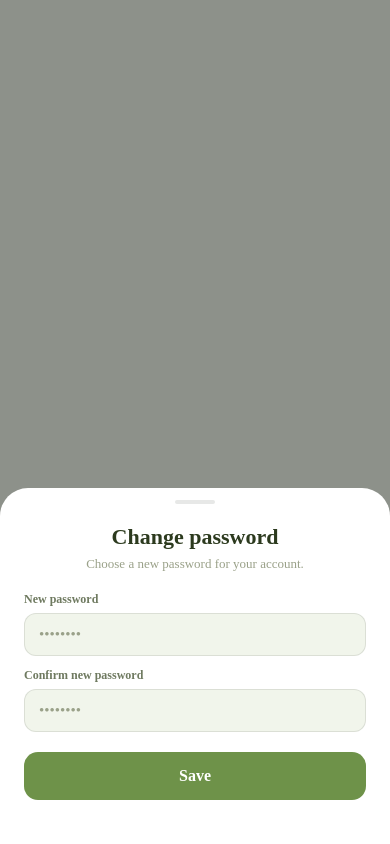
Test: ChangePasswordSheet › surfaces a service error
Type "abcdef" into the password field with test id "new-password-input" at {"x": 195, "y": 634}, box [24,613,366,656]
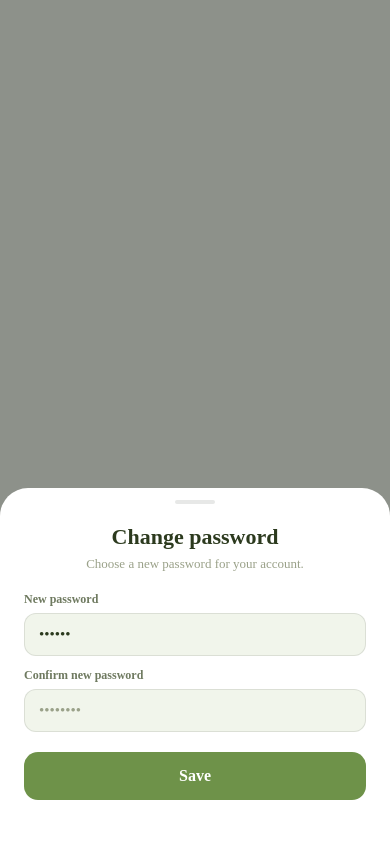
Type "abcdef" into the password field with test id "confirm-password-input" at {"x": 195, "y": 710}, box [24,689,366,732]
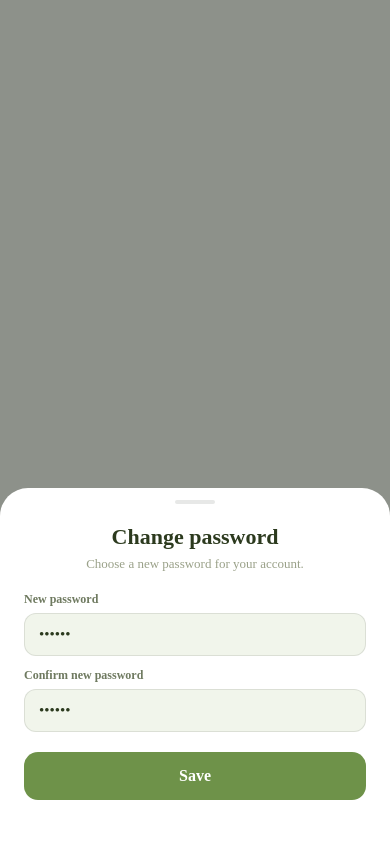
Click the element with test id "change-password-submit" at {"x": 195, "y": 776}, box [24,752,366,800]
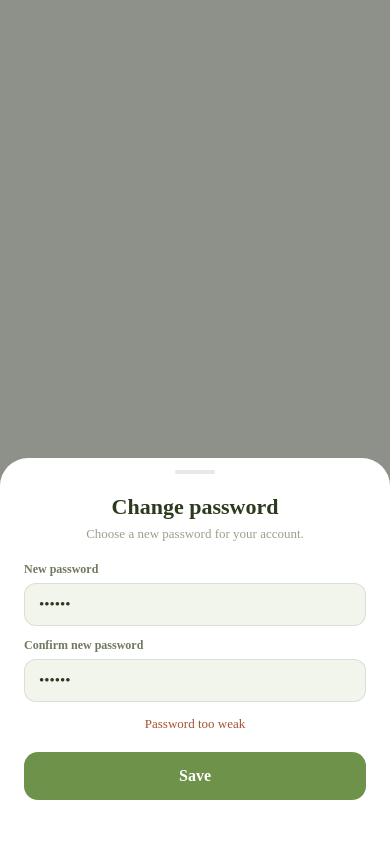
Now the text "Password too weak" is shown, box [145,716,245,731]
